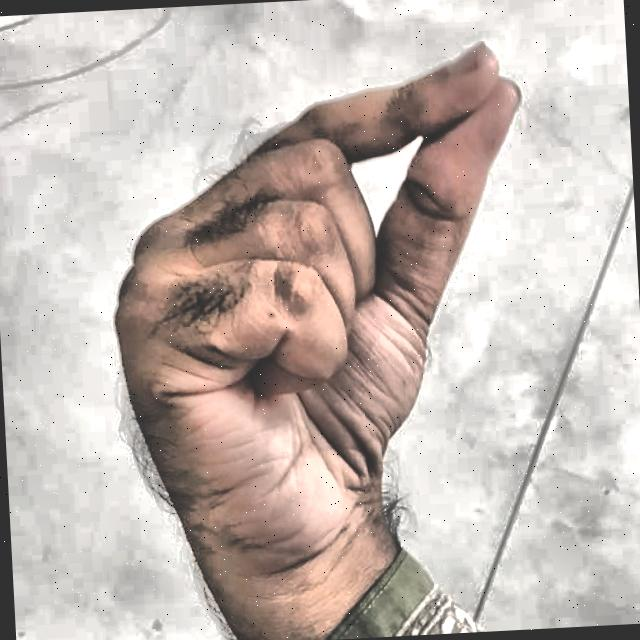Anusshar: (75, 7, 561, 630)
